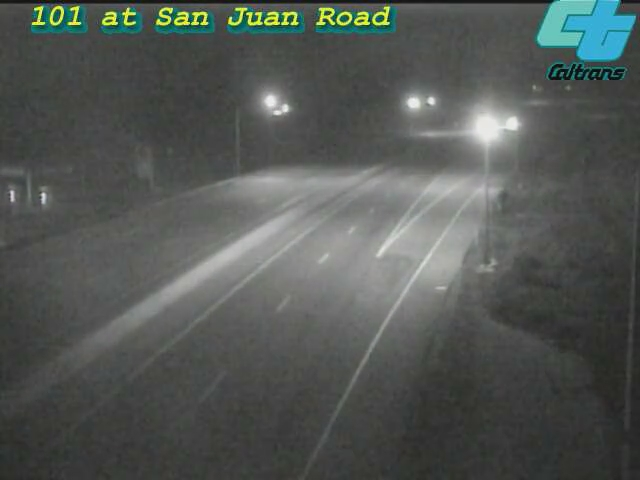vehicle: (458, 102, 508, 152), (489, 98, 539, 148)
